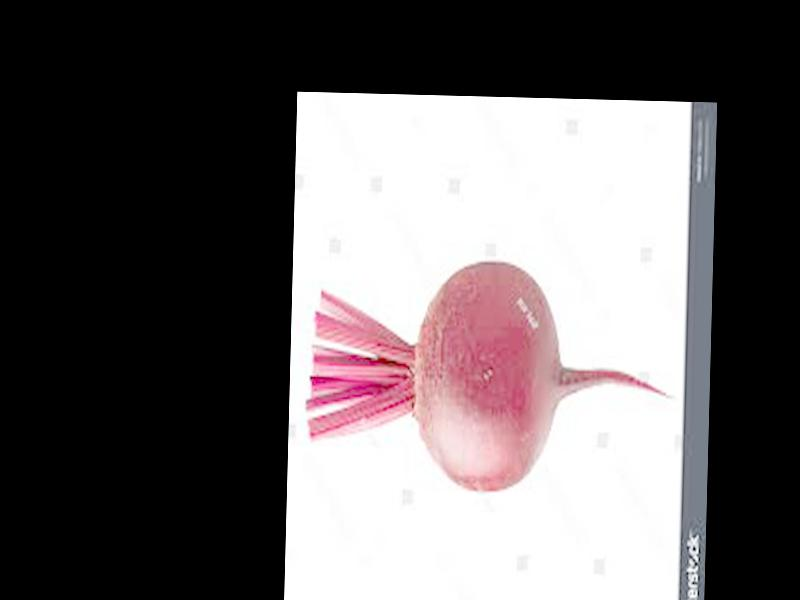Beet: (305, 256, 677, 495)
